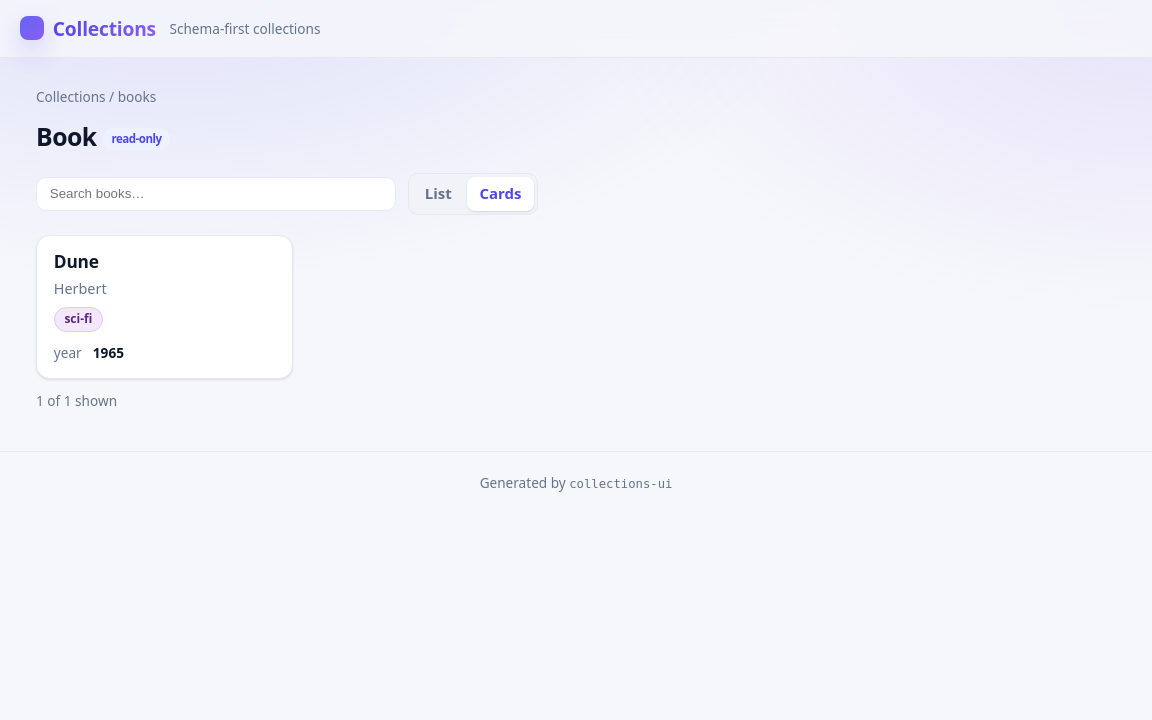
Scenario: card view › navigates to the detail page when a card is clicked
What coordinates should you click on to do the following:
click the link "Dune Herbert sci-fi"
I would click on:
 (164, 307)
Its box is 36,235 -> 293,379.
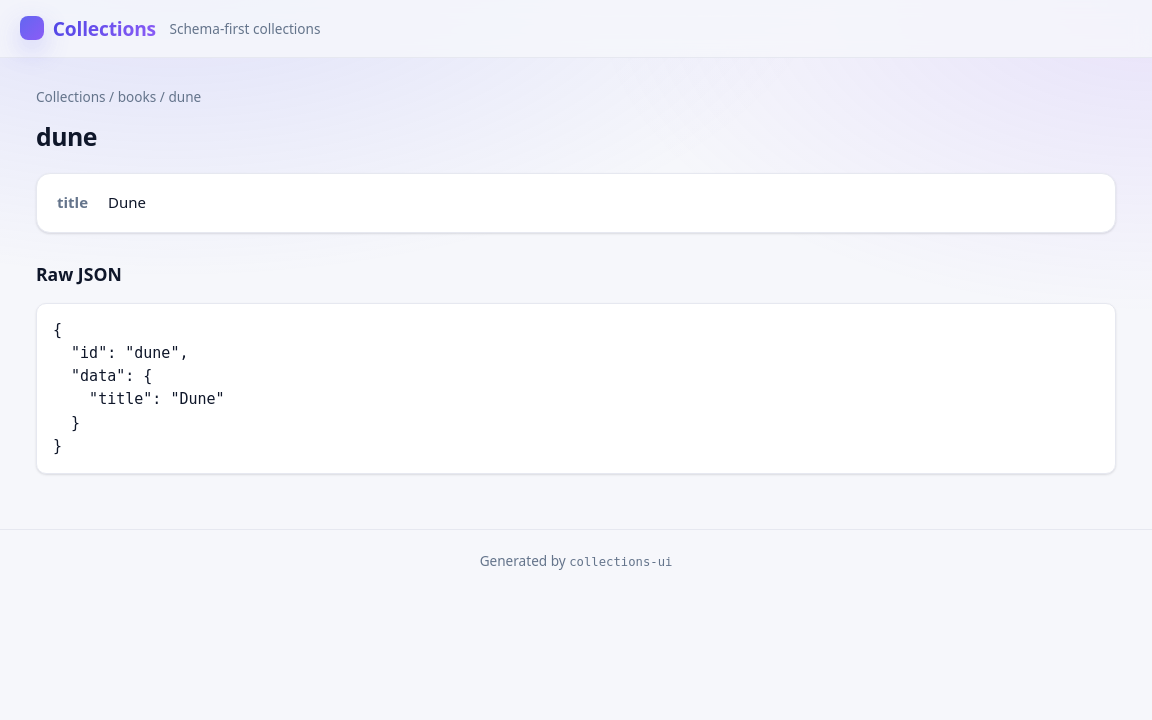
Expected: the heading "dune" is shown, 36,119 -> 97,153
